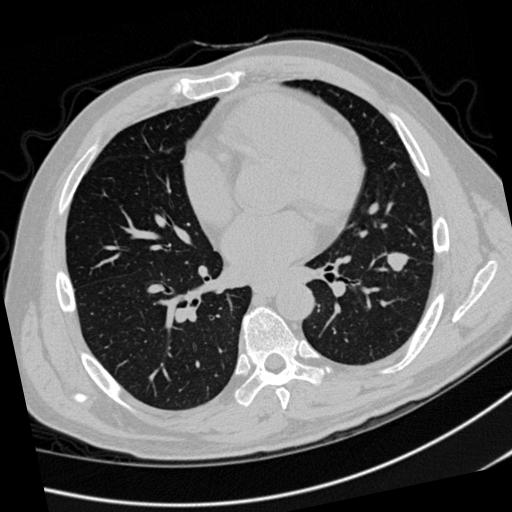nodule: (383, 247, 410, 274)
